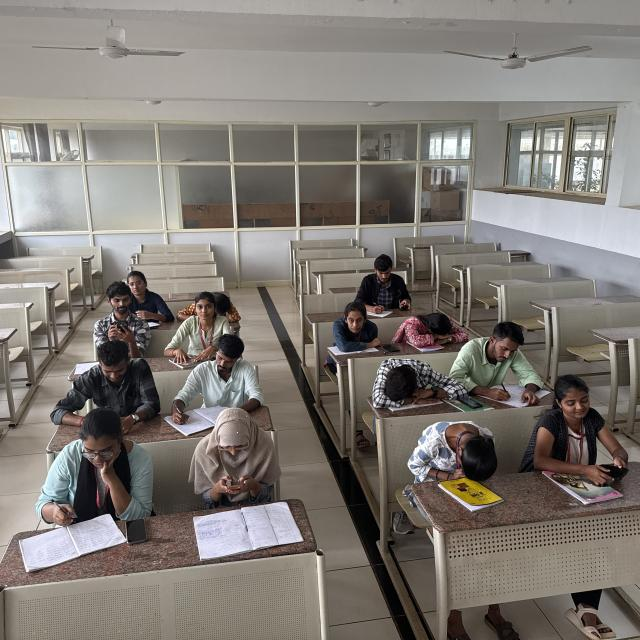Sleeping: (408, 416, 496, 477), (373, 354, 460, 410), (177, 289, 242, 324), (402, 311, 470, 344)
Using Phone: (529, 374, 629, 482), (50, 348, 164, 428), (192, 408, 278, 508), (94, 283, 144, 349)
Writing: (30, 416, 130, 540), (165, 339, 260, 429), (461, 320, 549, 400), (356, 251, 398, 317)
